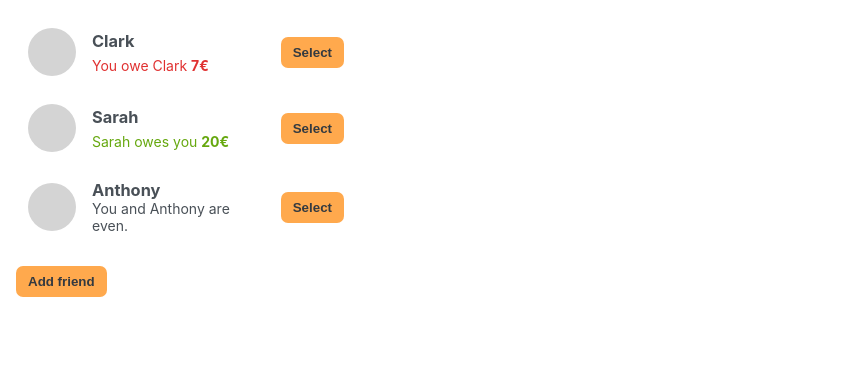
Test: App Integration Test › updates friend's balance after splitting a bill
Click the button "Select" in the row of "You owe" at (312, 52), box [281,37,344,68]
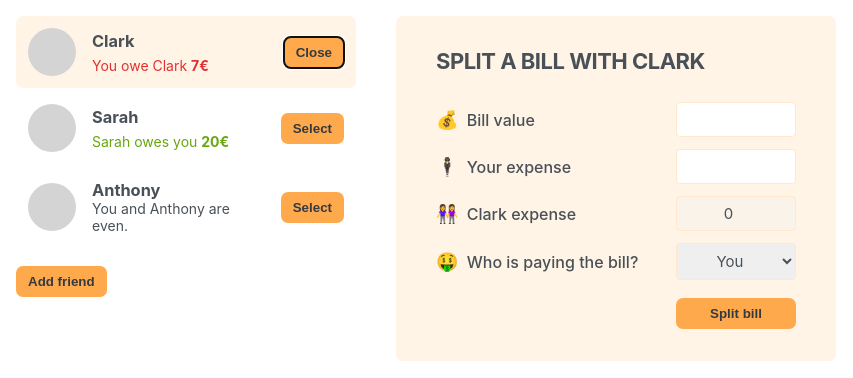
Type "100" into the number field labelled "💰 Bill value" at (736, 120), box [676,102,796,137]
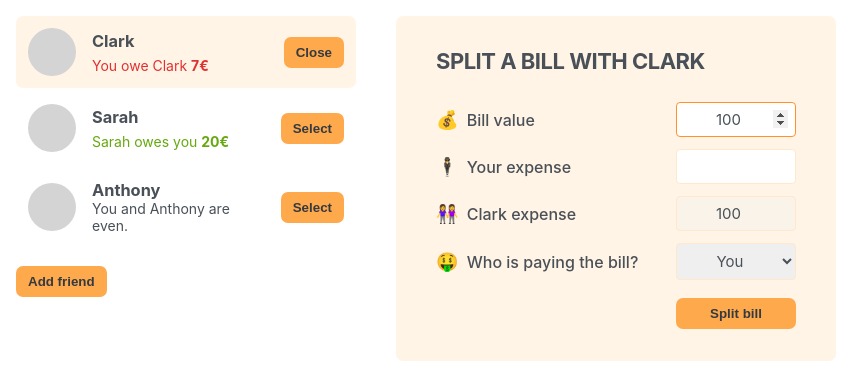
Type "60" into the number field labelled "🕴 Your expense" at (736, 167), box [676,149,796,184]
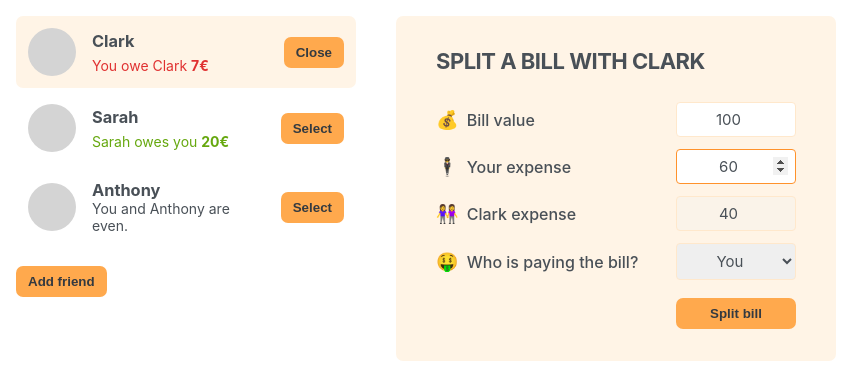
Click the button "Split bill" at (736, 314), box [676,298,796,329]
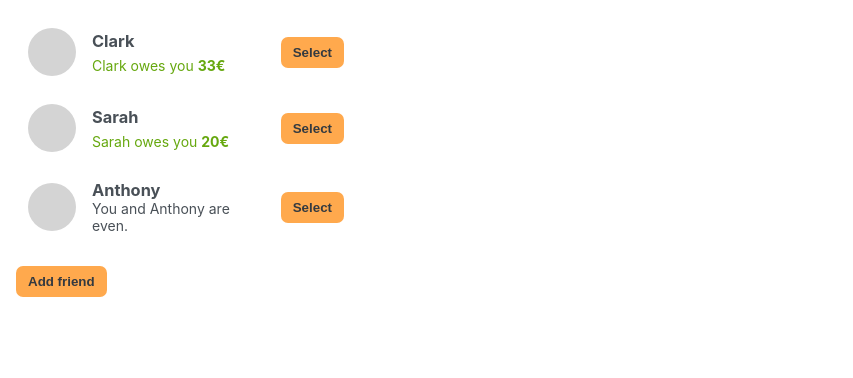
Expected: the text "33€" is shown, [198,57,225,74]
